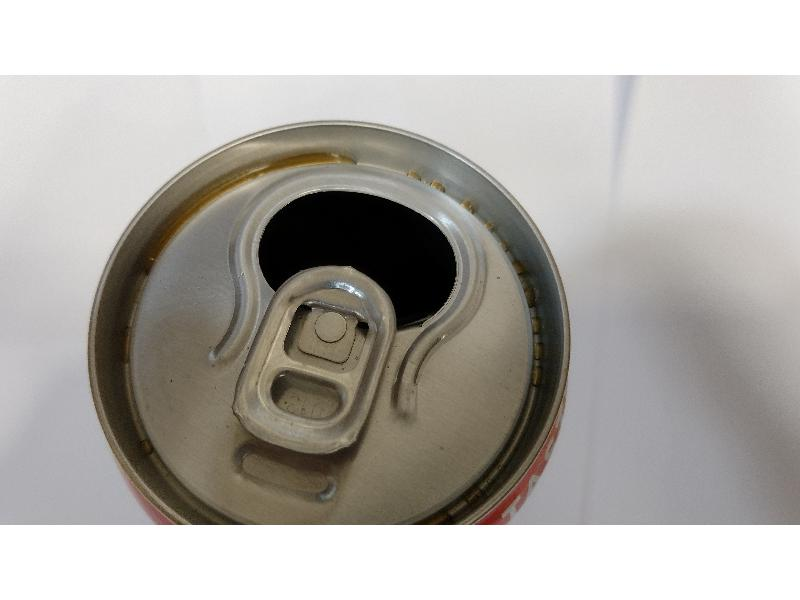can: (87, 115, 583, 521)
